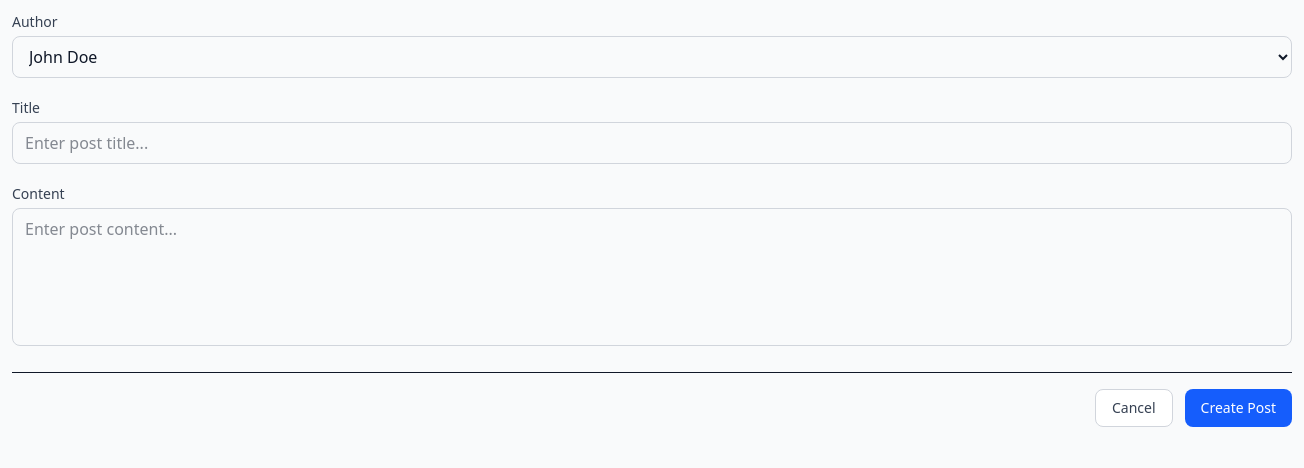
Test: PostForm › validation › shows error when content is empty
The image size is (1304, 468).
Step 1. Type "Valid Title" into the field labelled "Title" → (652, 143), box [12, 122, 1292, 164]
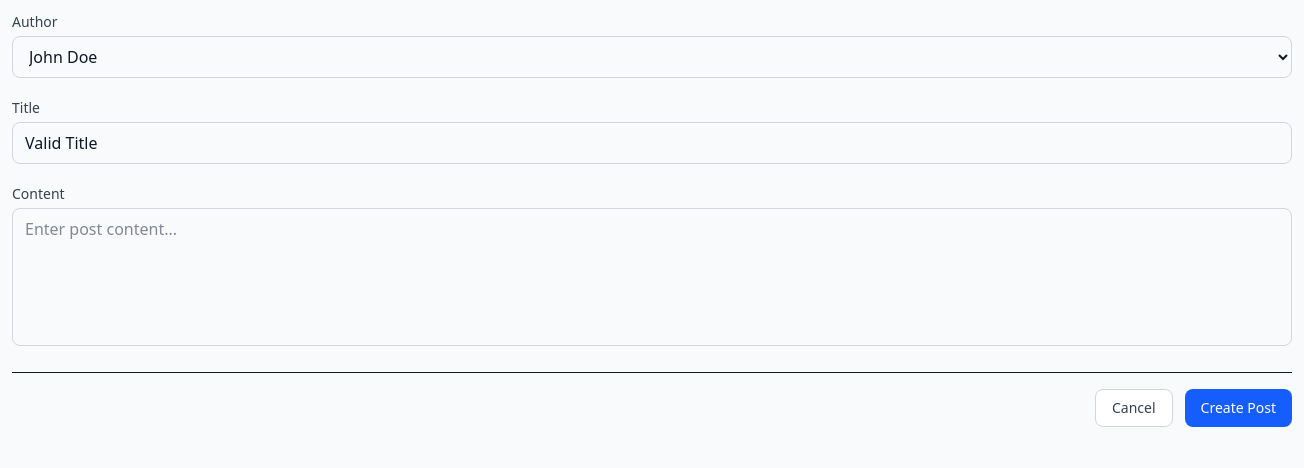
Step 2. Click the button "Create Post" → (1238, 408), box [1185, 389, 1292, 427]
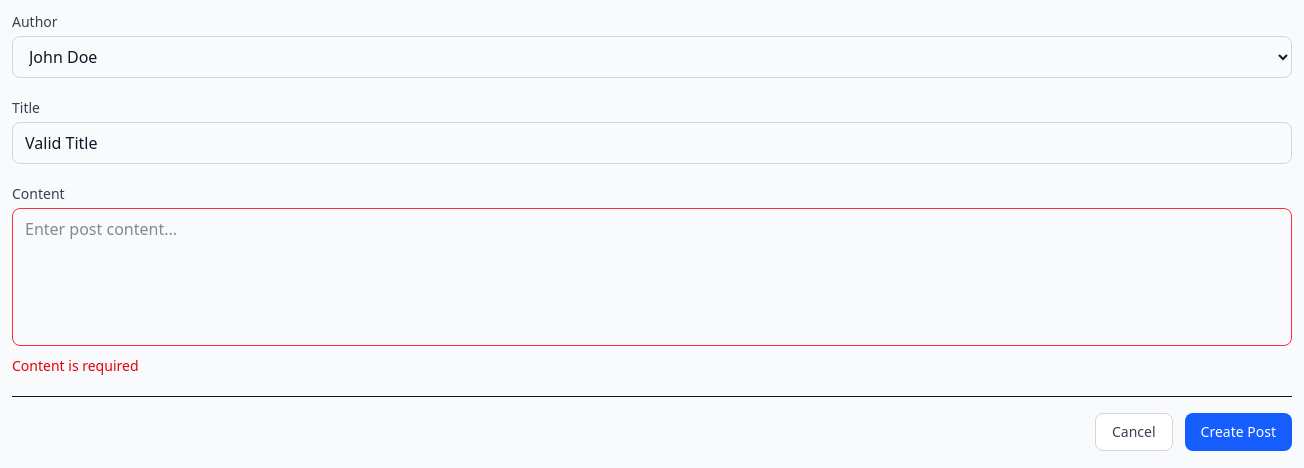
Check: the text "Content is required" is shown, box [12, 356, 138, 375]
